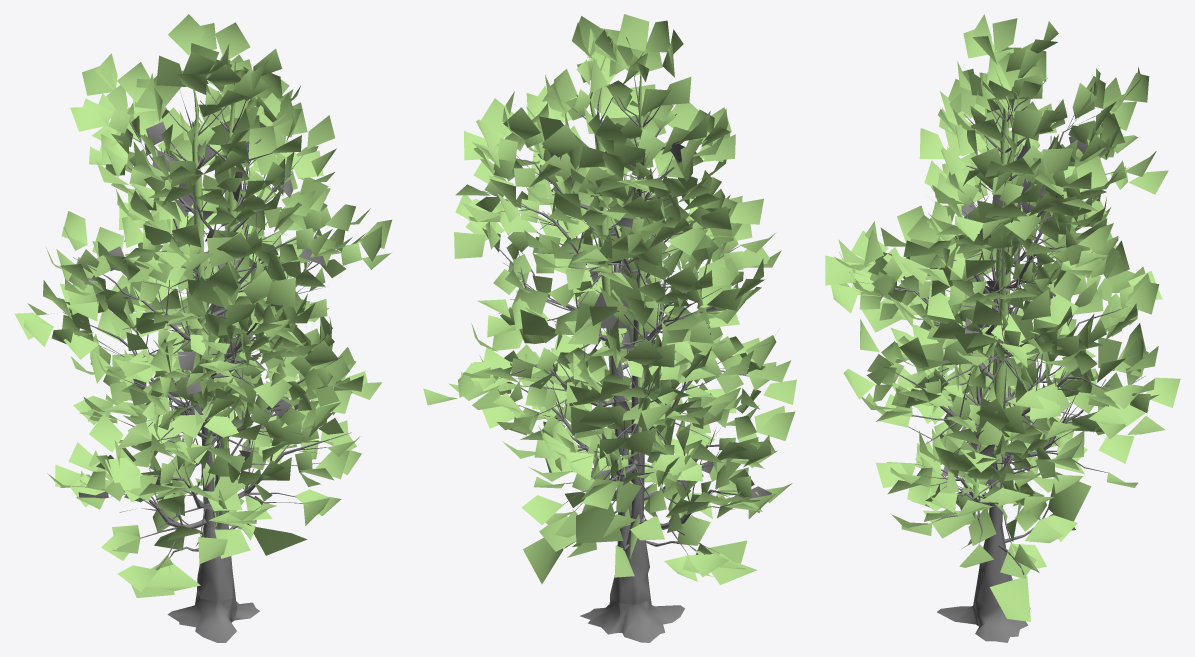
Rendered from SM_fatihagac.fbx.
3 renders of one model, left to right at view 1: azimuth 30°, elevation 25°; view 2: azimuth 150°, elevation 25°; view 3: azimuth 270°, elevation 25°, orthographic. The views are drawn at different scales.
Parts seen in each view (by area): view 1: SM_Tree_0_2_LOD1; view 2: SM_Tree_0_2_LOD1; view 3: SM_Tree_0_2_LOD1.
Boxes of the visible parts, left/top/right/bottom form: SM_Tree_0_2_LOD1: left=14, top=14, right=391, bottom=642; SM_Tree_0_2_LOD1: left=423, top=14, right=796, bottom=642; SM_Tree_0_2_LOD1: left=825, top=14, right=1180, bottom=642.
Bounding box in the file's own units: 820 × 1456 × 780.
